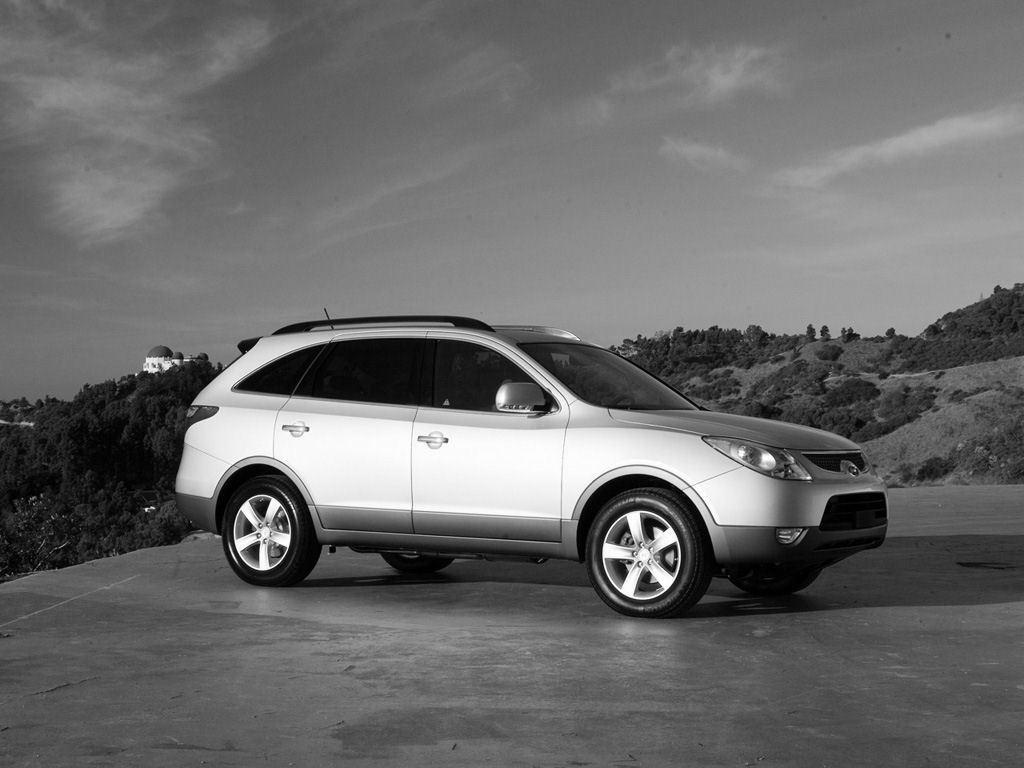car: (170, 306, 890, 617)
